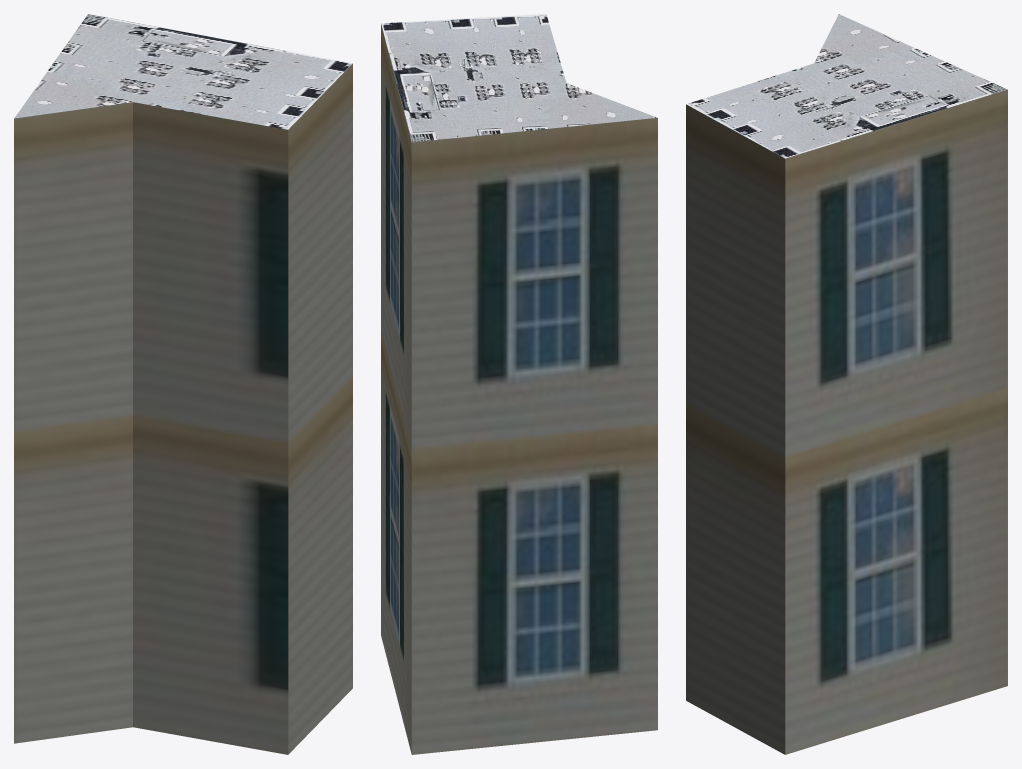
Rendered from ResTex__2716.fbx.
3 views of the same model, side by side, from view 1: azimuth 30°, elevation 25°; view 2: azimuth 150°, elevation 25°; view 3: azimuth 270°, elevation 25° (orthographic). The views are drawn at different scales.
Visible parts, largest first — view 1: CityEngineMaterial_7_m, CityEngineMaterial_2_m; view 2: CityEngineMaterial_7_m, CityEngineMaterial_2_m; view 3: CityEngineMaterial_7_m, CityEngineMaterial_2_m.
Boxes of the visible parts, left/top/right/bottom form: CityEngineMaterial_7_m: left=14, top=63, right=352, bottom=754; CityEngineMaterial_2_m: left=14, top=14, right=352, bottom=129; CityEngineMaterial_7_m: left=381, top=24, right=657, bottom=754; CityEngineMaterial_2_m: left=381, top=14, right=657, bottom=142; CityEngineMaterial_7_m: left=686, top=89, right=1007, bottom=754; CityEngineMaterial_2_m: left=686, top=14, right=1007, bottom=158.
Size of the model in its own units: 3.12 by 6 by 2.94.
Materials: 2 (2 with a texture image).
